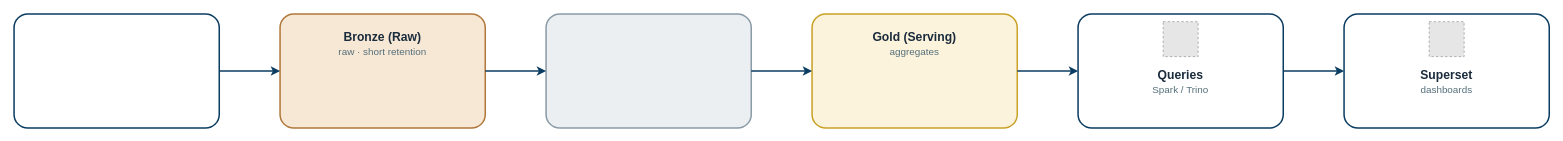
This 1563x141 diagram has some shape labels left out. Grey dashed boxes stand in for pictures. Each missing label, with the centre of its shape:
"Fuentes de datos API · DB · MQ" belongs at point (116, 70).
"Silver (Curated) curated · enriched" belongs at point (648, 70).
